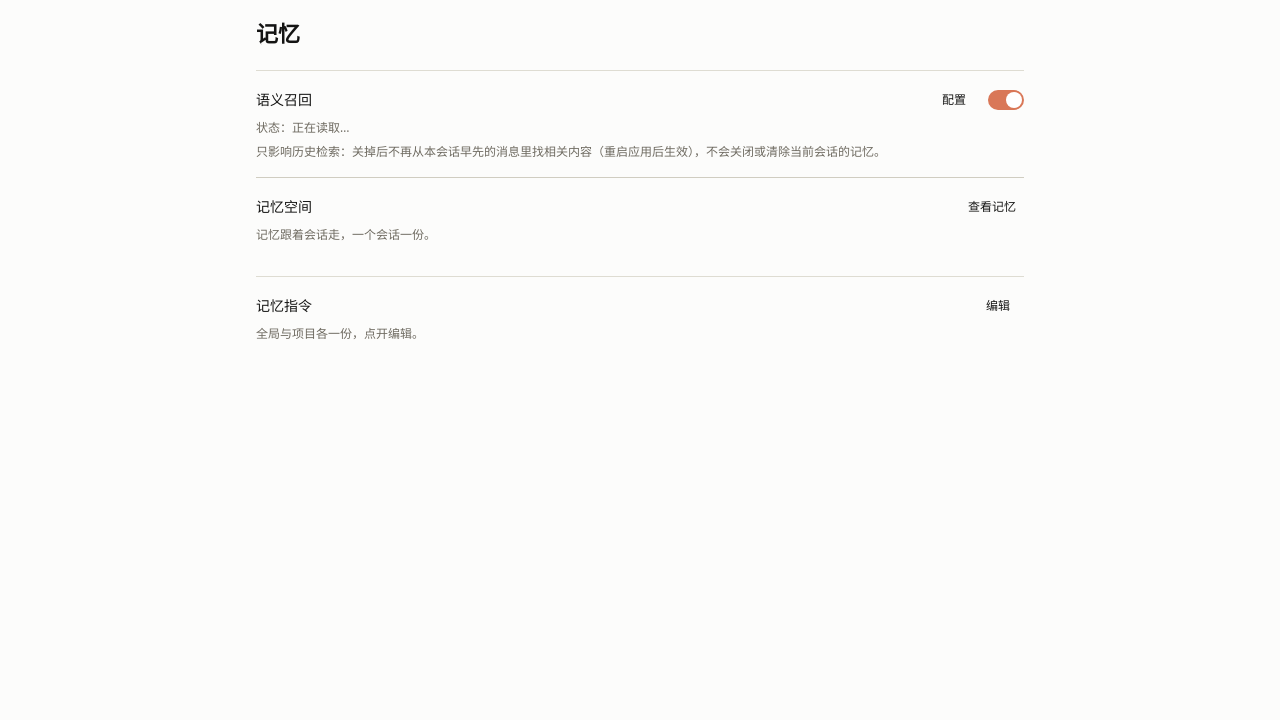
Scenario: 记忆空间（「记忆」栏的入口弹窗） › 清空确认框是嵌套弹窗：Esc 只关确认框（焦点还给「清空」），再 Esc 关记忆空间（焦点还给入口）
Click the button with test id "memory-space-open": (992, 207) [960, 194, 1024, 220]
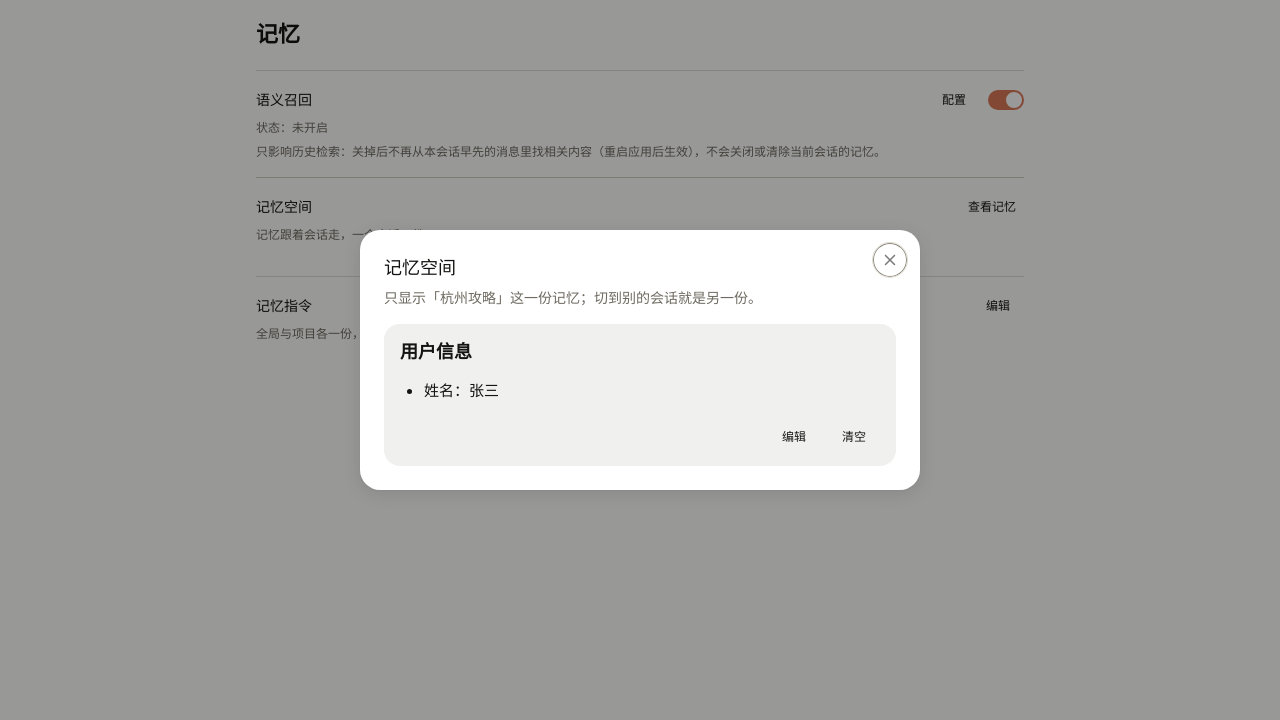
expect the element with test id "memory-content" is shown: met, box [400, 342, 499, 400]
Click the button with test id "memory-clear": (854, 437) [828, 424, 880, 450]
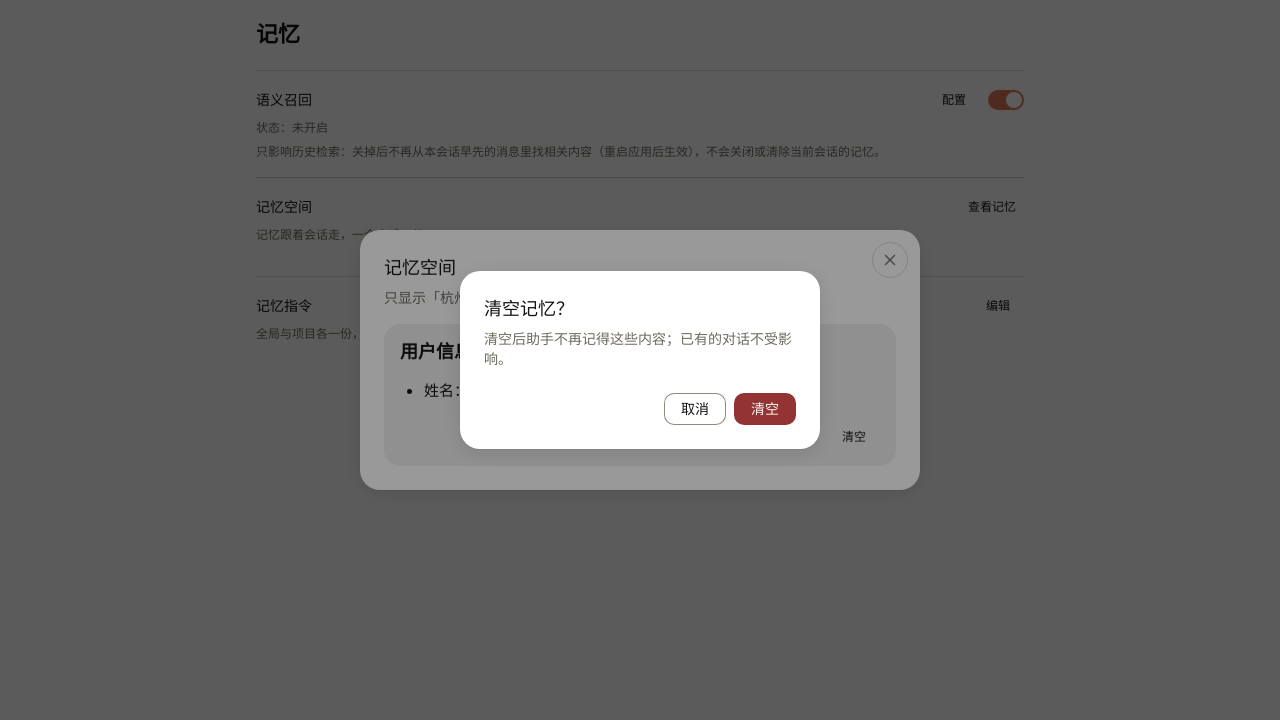
expect the button with test id "memory-clear-confirm" is shown: met, box [734, 393, 796, 425]
// Esc 只吃最上面那层：确认框关掉、记忆空间还开着，焦点回到「清空」
Press Escape in the button "取消", box [664, 393, 726, 425]
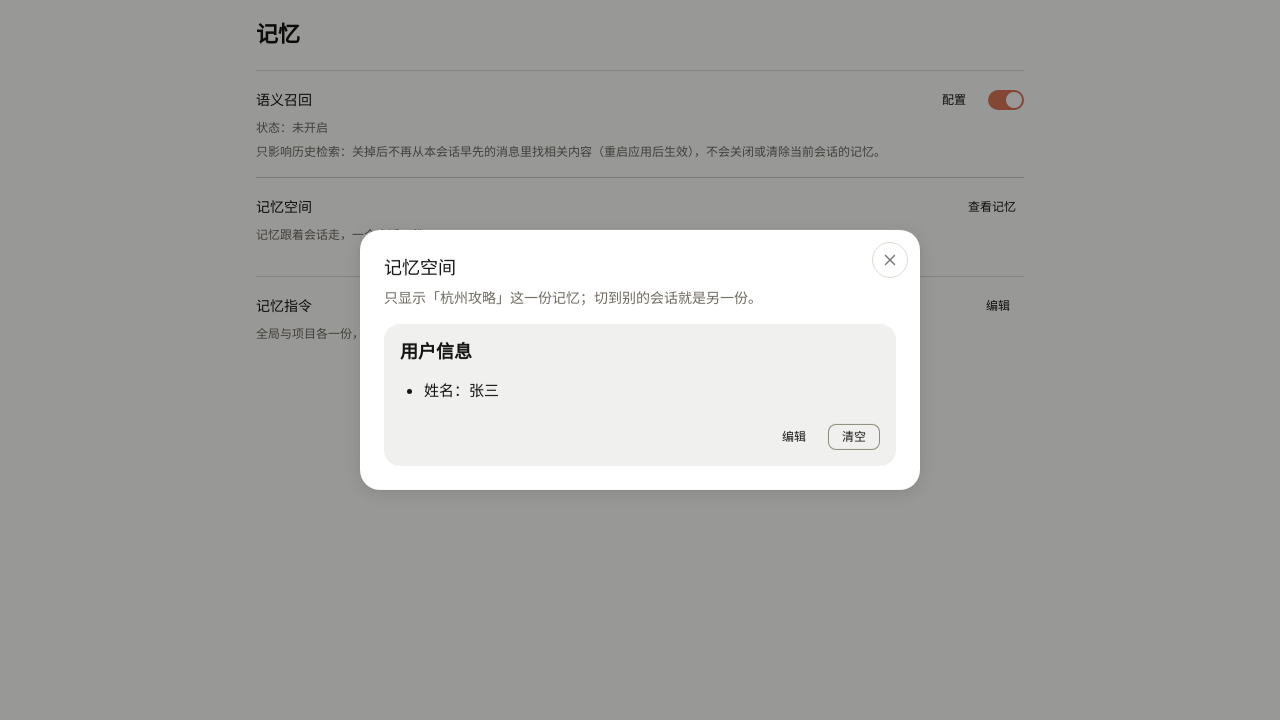
expect the element with test id "memory-space-body" is shown: met, box [384, 324, 896, 466]
expect the button with test id "memory-clear-confirm" is gone: met
// 再 Esc：记忆空间关掉，焦点回到入口按钮
Press Escape in the button with test id "memory-clear", box [828, 424, 880, 450]
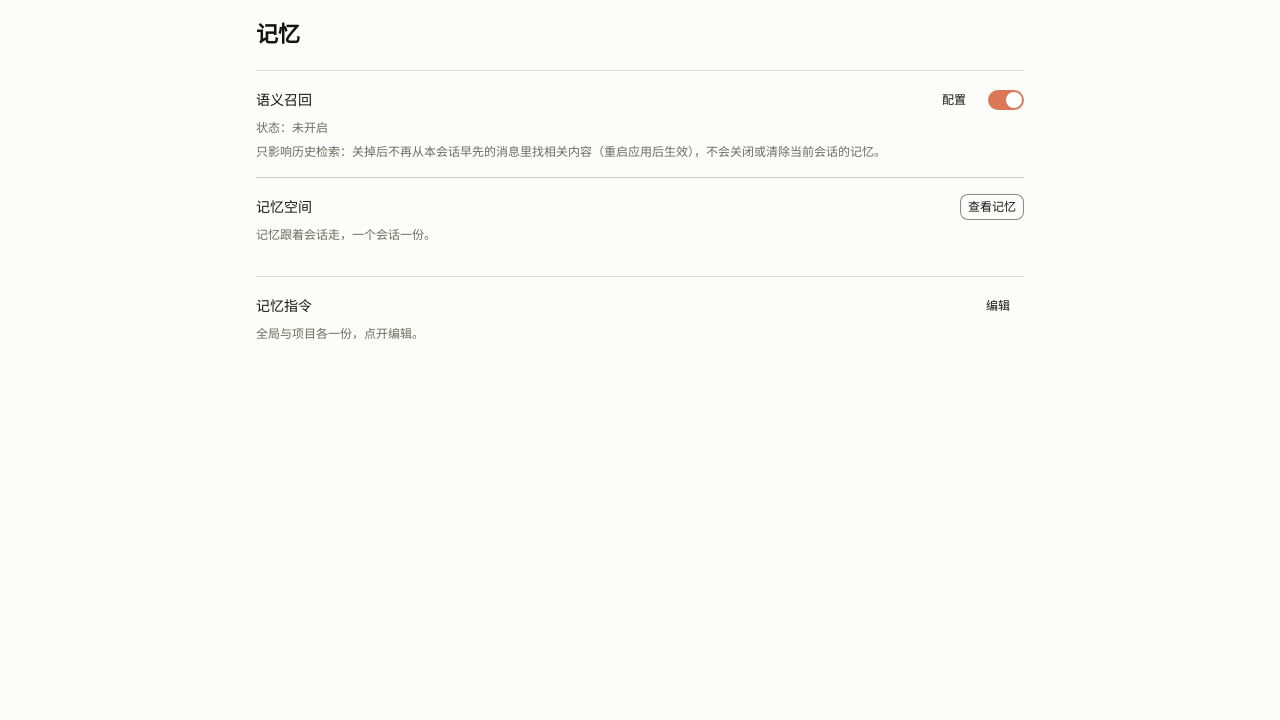
expect the element with test id "memory-space-body" is gone: met
